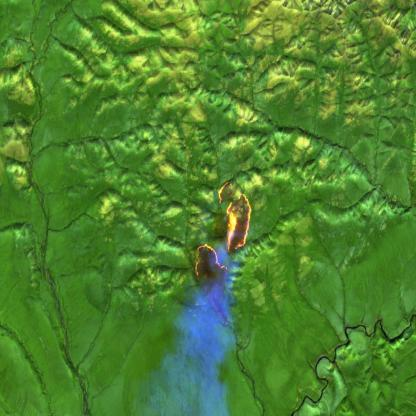fire: (192, 179, 254, 290)
